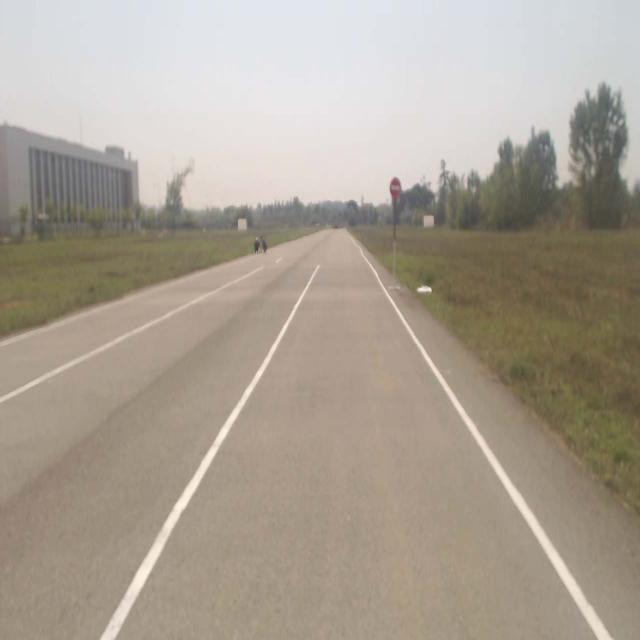girisyok: (390, 176, 400, 199)
